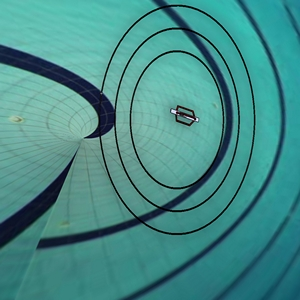circle: (88, 2, 266, 240)
submarine: (159, 95, 208, 139)
